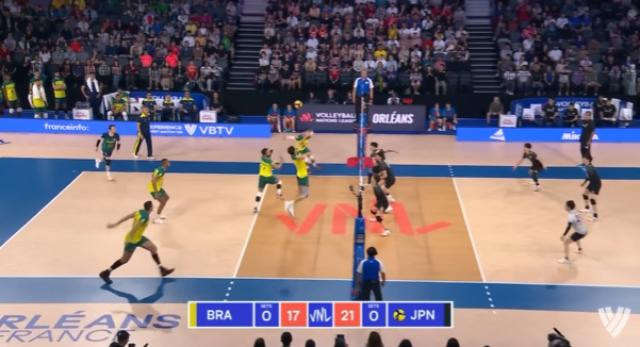Levantador: (238, 137, 296, 216)
Libero: (80, 111, 136, 193), (548, 196, 596, 268)
bola: (292, 96, 306, 115)
